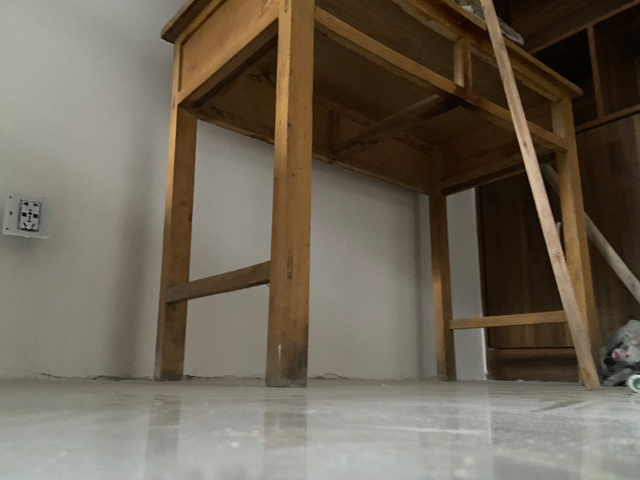cabinet: (474, 1, 640, 384)
table: (149, 1, 604, 389)
